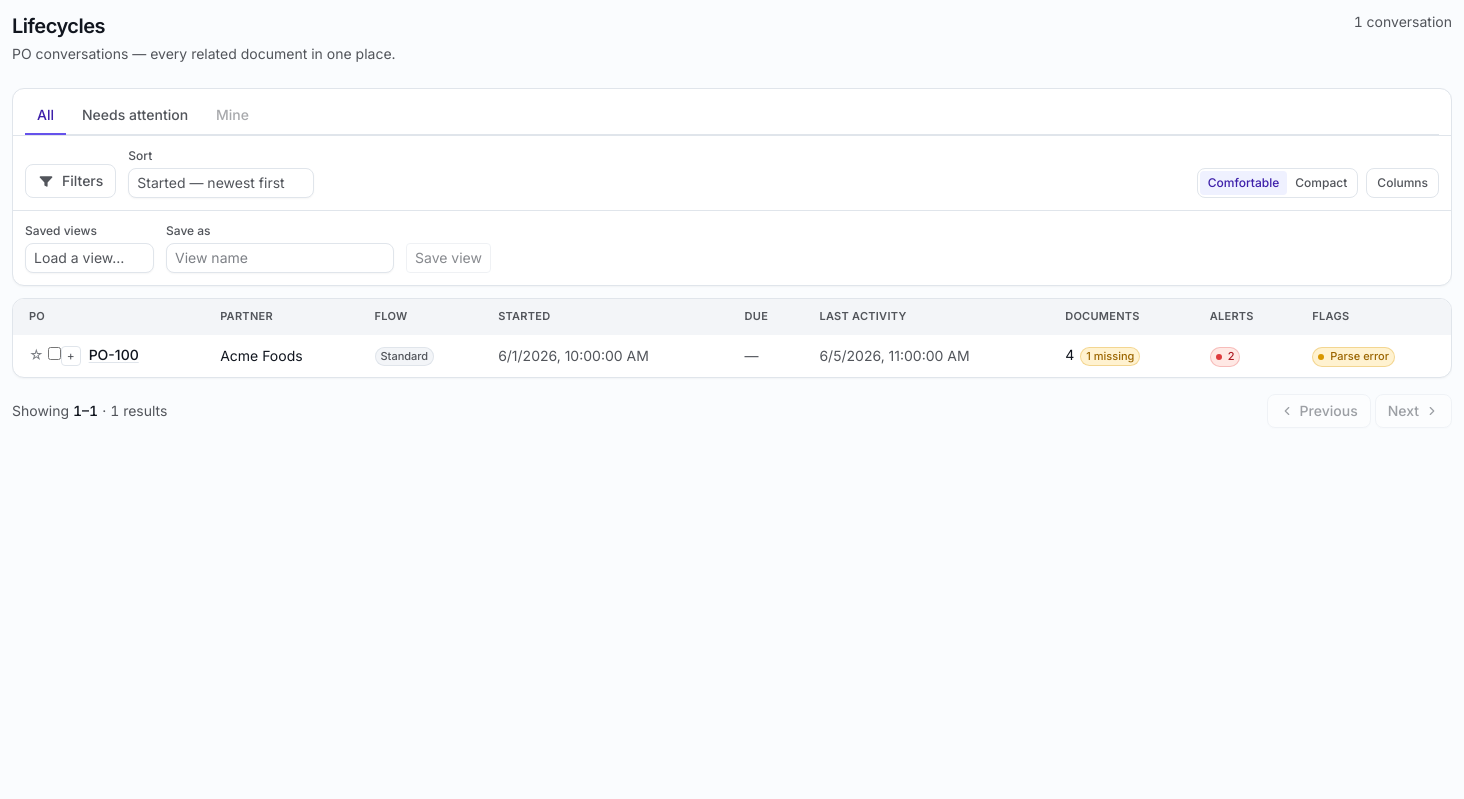
expand loads timeline without route change
Step 1. Click the button named "Expand" → (71, 356), box x1=61 y1=346 x2=81 y2=366
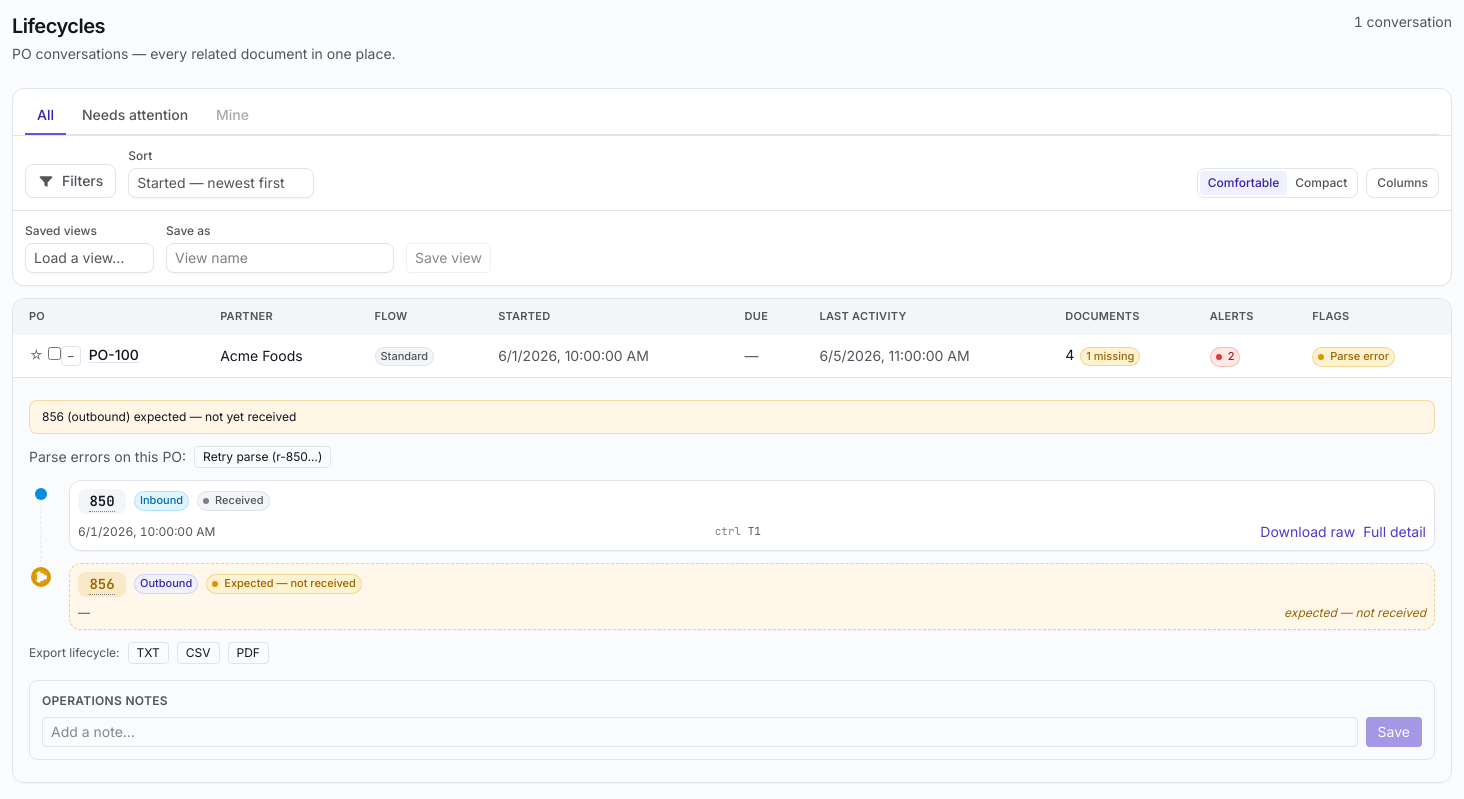
Check: the element with test id "expand-panel-PO-100" shows "850", box x1=89 y1=491 x2=115 y2=512
Check: the element with test id "expand-panel-PO-100" shows "Expected — not received", box x1=224 y1=576 x2=356 y2=590
Check: the button with test id "download-raw" is shown, box x1=1260 y1=522 x2=1355 y2=542
